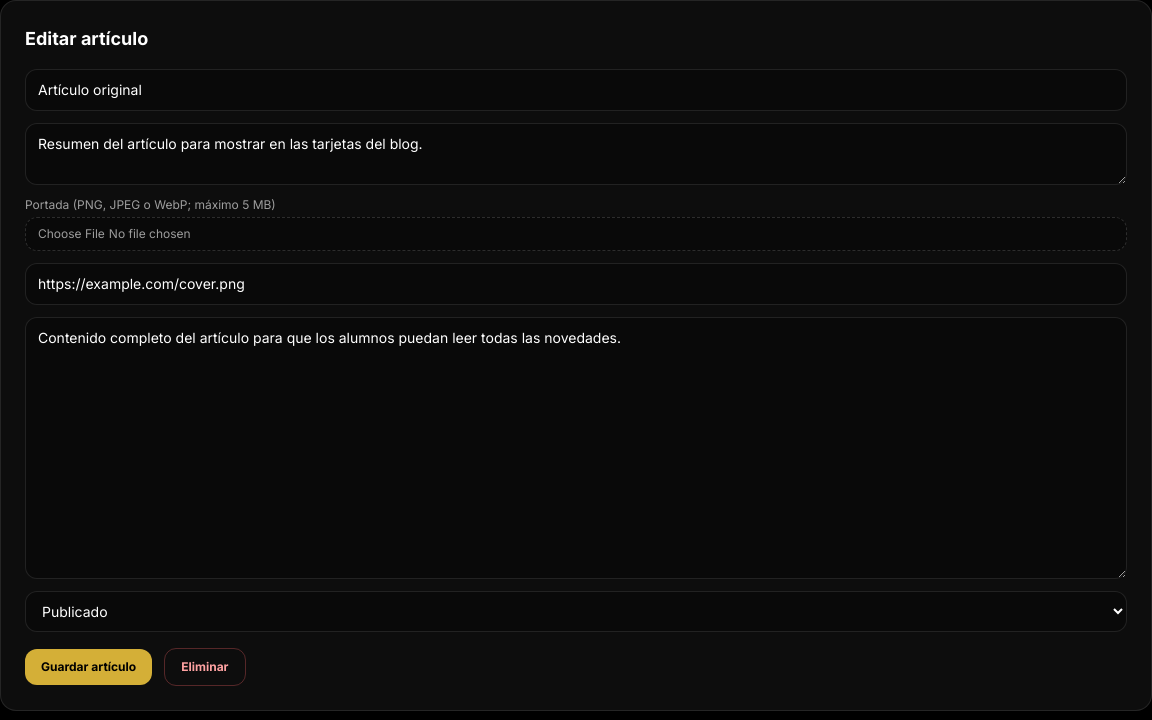
Test: blog admin editor › saves the current id and edited fields without conflicting React form props
The image size is (1152, 720).
Replace the text in the field named "Título" with "Título actualizado" at (576, 90), box 25,69 -> 1127,111
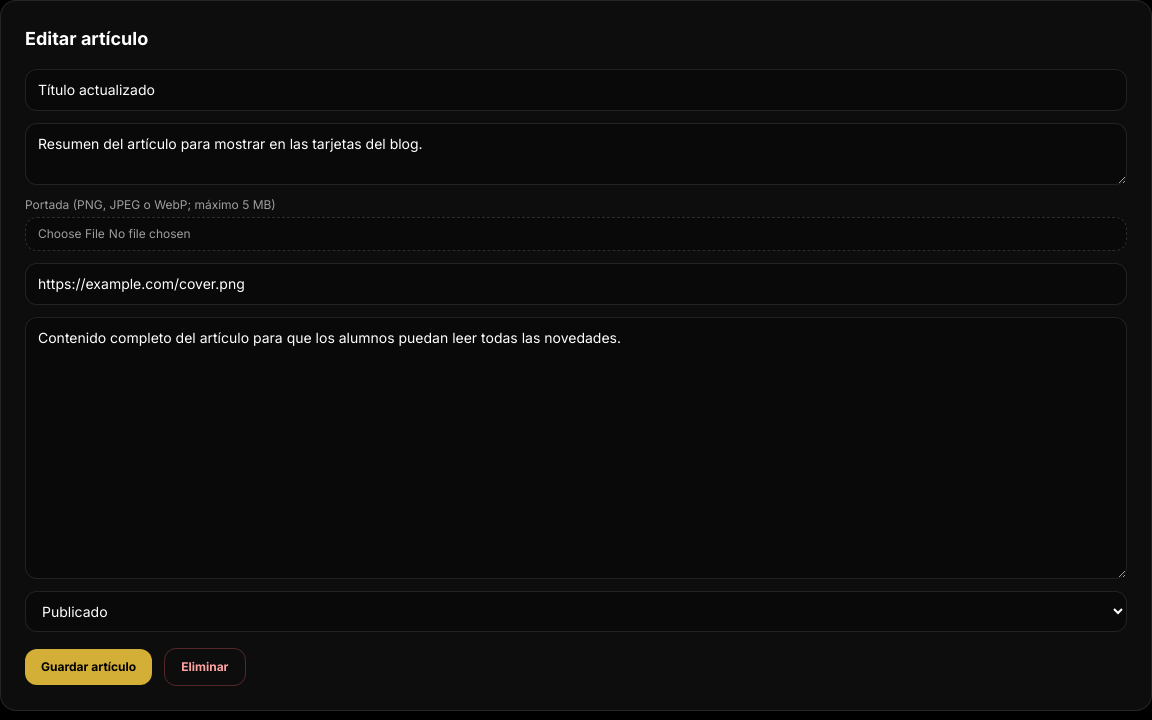
Select "Borrador" in the dropdown named "Estado" at (576, 612), box 25,591 -> 1127,632
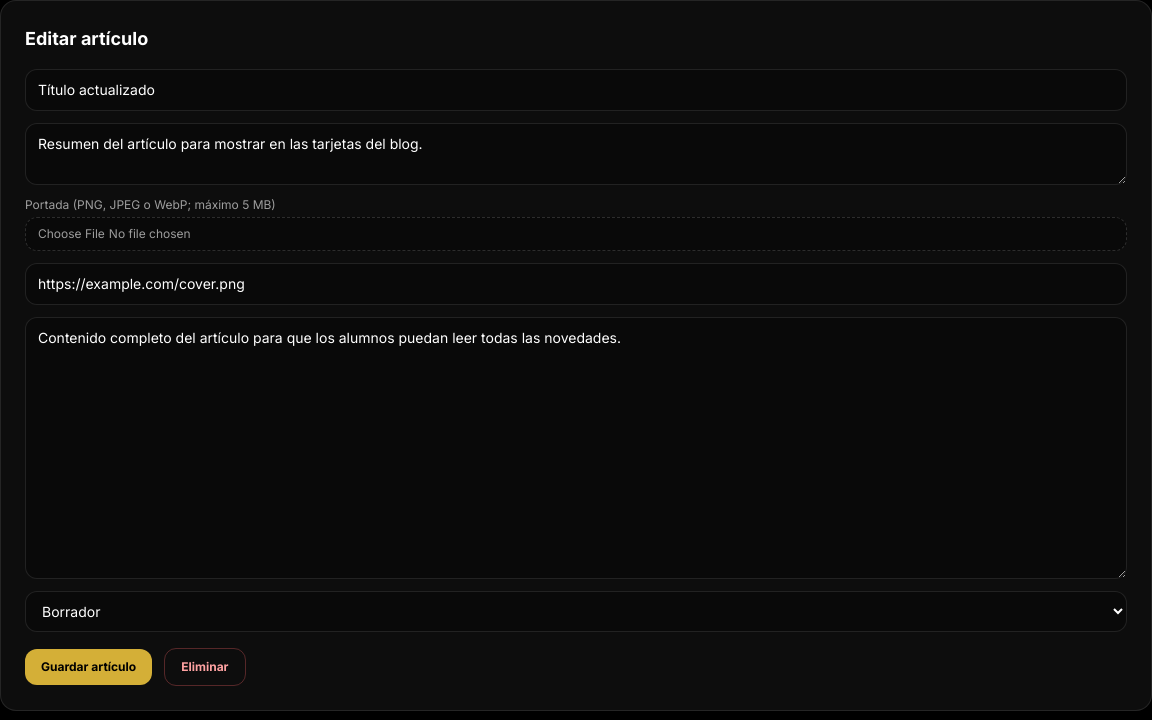
Click the button "Guardar artículo".
click(89, 667)  # box 25,649 -> 152,685
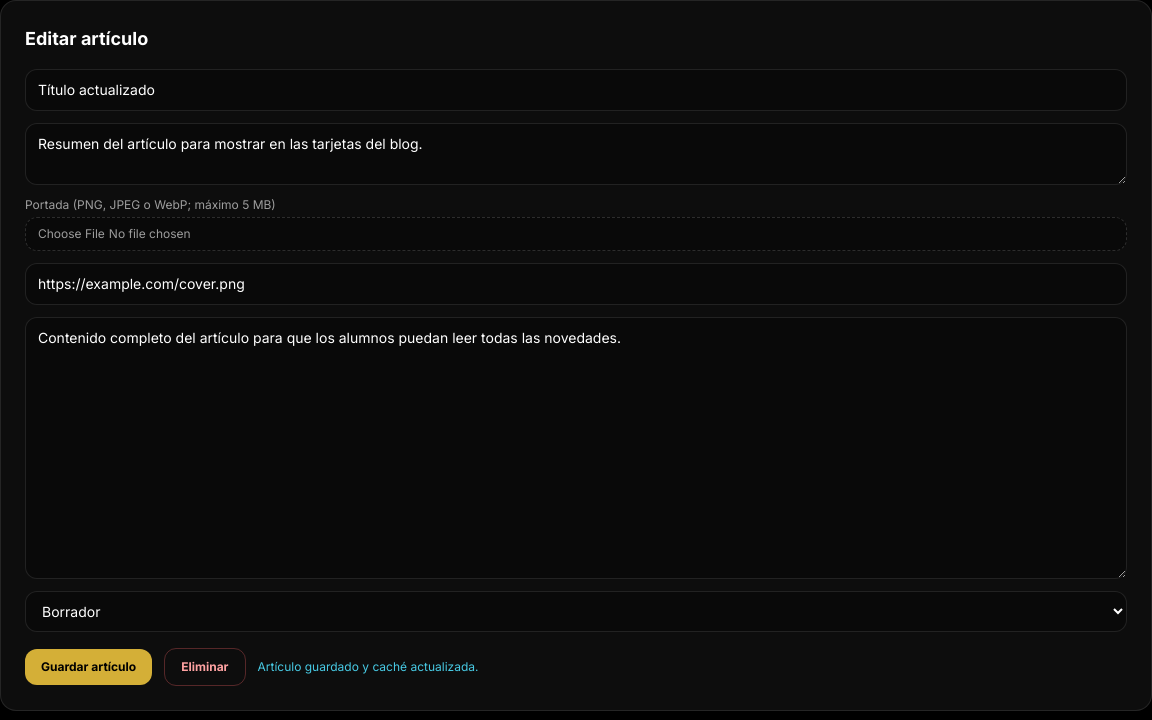
Result: the message shows "Artículo guardado" at 258,659 -> 478,674
